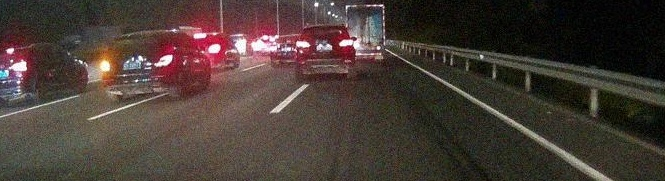L_light: (101, 59, 111, 71), (297, 41, 310, 48)
R_light: (154, 54, 173, 67), (339, 39, 353, 47)
T_light: (135, 36, 146, 39), (320, 26, 330, 29)
night-left: (100, 30, 176, 100)
night-no: (296, 24, 355, 80)
